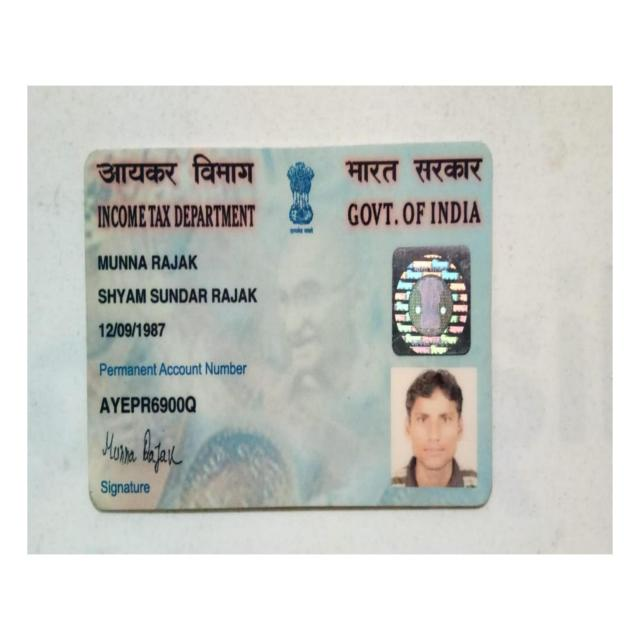pan_card: (86, 142, 489, 511)
